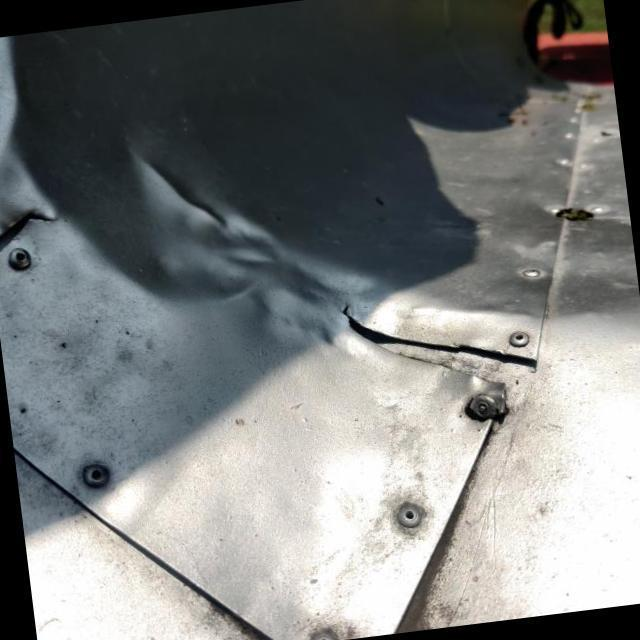Dent: (0, 0, 385, 359)
Rupture: (323, 269, 555, 425), (0, 181, 74, 276)
